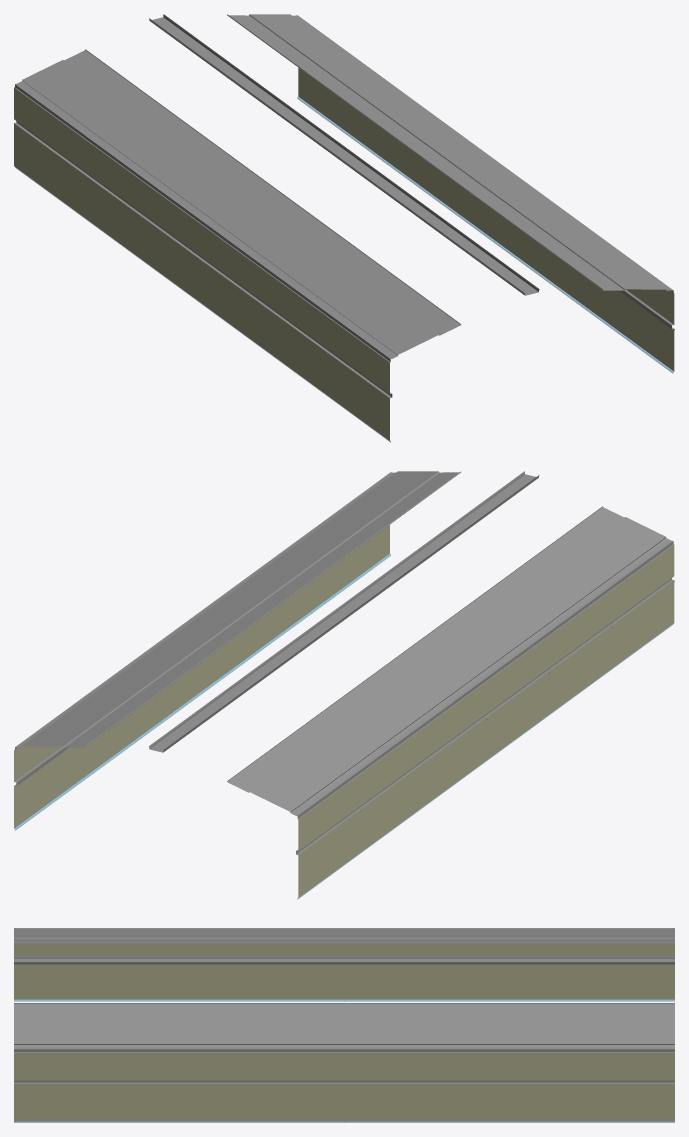
File: wall1.fbx
3 renders of one model, top to bottom at view 1: azimuth 30°, elevation 25°; view 2: azimuth 150°, elevation 25°; view 3: azimuth 270°, elevation 25°, orthographic. The views are drawn at different scales.
Parts seen in each view (by area): view 1: 墙; view 2: 墙; view 3: 墙.
Part boxes in pixels (box(x1,y1,x2,y2)): 墙: box(14, 14, 674, 442); 墙: box(14, 471, 674, 899); 墙: box(14, 928, 674, 1122).
Size of the model in its own units: 2812 by 1104 by 6408.
